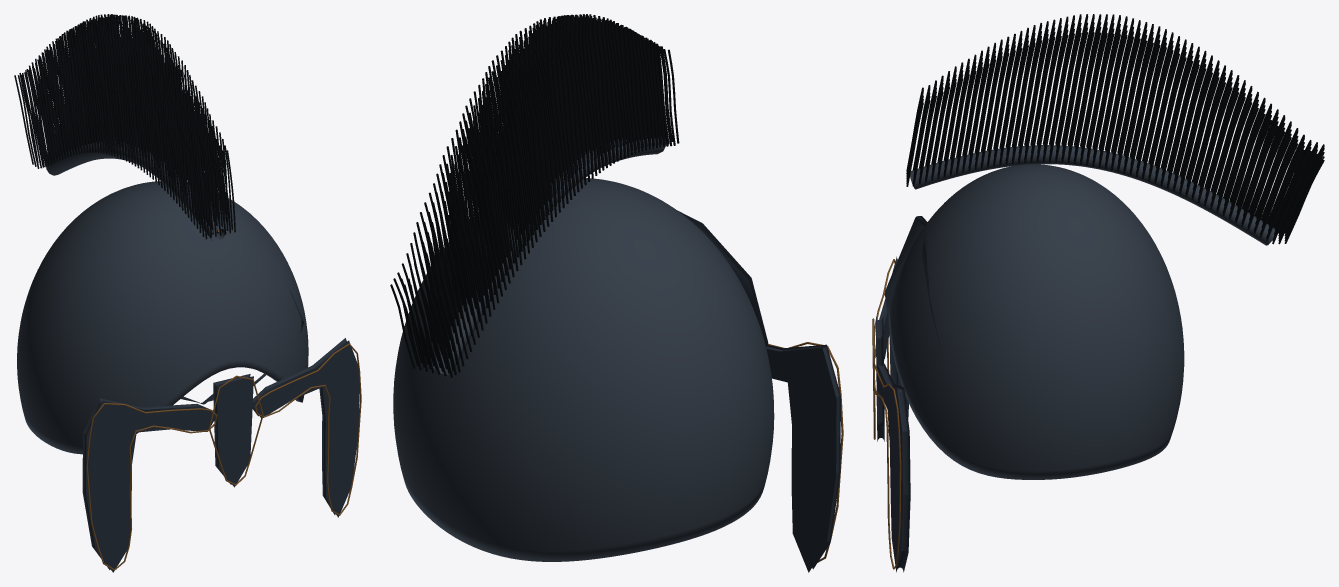
Rendered from leonidas-aqueo-dark-stage-02.glb.
3 views of the same model, side by side, from view 1: azimuth 30°, elevation 25°; view 2: azimuth 150°, elevation 25°; view 3: azimuth 270°, elevation 25° (orthographic). The views are drawn at different scales.
Parts seen in each view (by area): view 1: AqueoDark_ShellApprovedDome, AqueoDark_CrestHairFibres, AqueoDark_MaskGuardL, AqueoDark_MaskGuardR, AqueoDark_MaskNose, AqueoDark_CrestRail, AqueoDark_MaskGuardL_Trim, AqueoDark_MaskGuardR_Trim, AqueoDark_MaskNose_Trim; view 2: AqueoDark_ShellApprovedDome, AqueoDark_CrestHairFibres, AqueoDark_MaskGuardL, AqueoDark_CrestRail, AqueoDark_MaskForehead, AqueoDark_MaskGuardL_Trim; view 3: AqueoDark_ShellApprovedDome, AqueoDark_CrestHairFibres, AqueoDark_CrestRail, AqueoDark_MaskGuardR, AqueoDark_MaskForehead, AqueoDark_MaskGuardR_Trim, AqueoDark_MaskNose, AqueoDark_MaskGuardL.
Boxes of the visible parts, bbox=[...] form: AqueoDark_ShellApprovedDome: bbox=[17, 181, 308, 454]; AqueoDark_CrestHairFibres: bbox=[14, 14, 235, 239]; AqueoDark_MaskGuardL: bbox=[82, 398, 217, 572]; AqueoDark_MaskGuardR: bbox=[252, 338, 359, 517]; AqueoDark_MaskNose: bbox=[213, 374, 253, 487]; AqueoDark_CrestRail: bbox=[46, 141, 224, 241]; AqueoDark_MaskGuardL_Trim: bbox=[86, 403, 217, 570]; AqueoDark_MaskGuardR_Trim: bbox=[255, 343, 361, 515]; AqueoDark_MaskNose_Trim: bbox=[208, 375, 263, 485]; AqueoDark_ShellApprovedDome: bbox=[393, 178, 774, 561]; AqueoDark_CrestHairFibres: bbox=[390, 14, 679, 377]; AqueoDark_MaskGuardL: bbox=[766, 344, 840, 572]; AqueoDark_CrestRail: bbox=[432, 137, 666, 374]; AqueoDark_MaskForehead: bbox=[677, 210, 768, 346]; AqueoDark_MaskGuardL_Trim: bbox=[768, 342, 843, 562]; AqueoDark_ShellApprovedDome: bbox=[889, 164, 1184, 479]; AqueoDark_CrestHairFibres: bbox=[906, 14, 1324, 244]; AqueoDark_CrestRail: bbox=[910, 145, 1275, 245]; AqueoDark_MaskGuardR: bbox=[876, 363, 910, 572]; AqueoDark_MaskForehead: bbox=[884, 216, 944, 364]; AqueoDark_MaskGuardR_Trim: bbox=[873, 363, 901, 569]; AqueoDark_MaskNose: bbox=[876, 316, 884, 441]; AqueoDark_MaskGuardL: bbox=[879, 256, 908, 418].
Size of the model in its own units: 0.1982 by 0.3126 by 0.2585.
